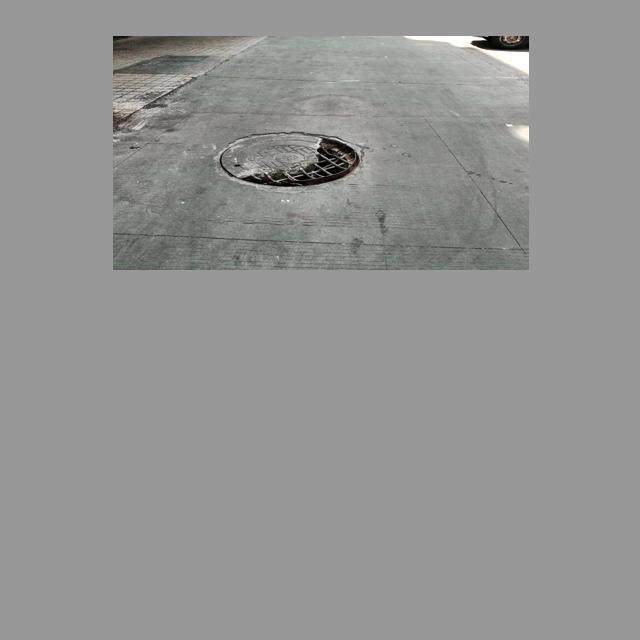broke: (193, 119, 388, 204)
